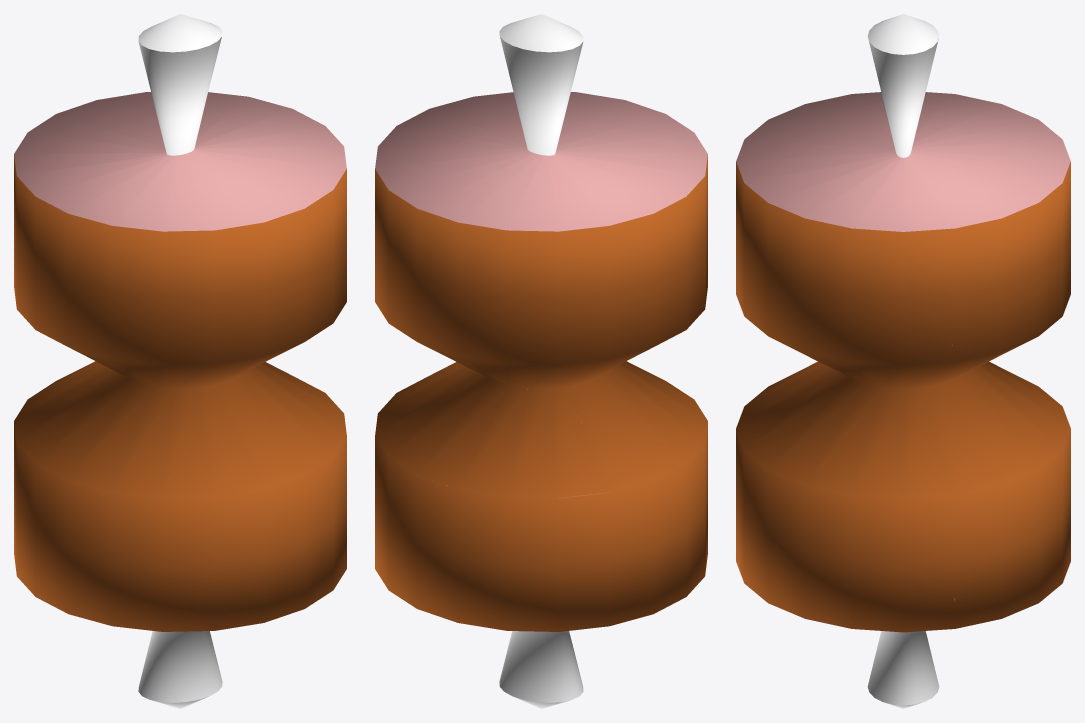
Rendered from meat.fbx.
3 renders of one model, left to right at view 1: azimuth 30°, elevation 25°; view 2: azimuth 150°, elevation 25°; view 3: azimuth 270°, elevation 25°, orthographic.
Visible parts, largest first — view 1: pCylinder2; view 2: pCylinder2; view 3: pCylinder2.
Part boxes in pixels (x1,y1,x2,y2): pCylinder2: [14, 14, 346, 708]; pCylinder2: [375, 14, 707, 708]; pCylinder2: [736, 14, 1070, 708].
Bounding box in the file's own units: 2 × 4.58 × 2.
1 material, 1 textured.
